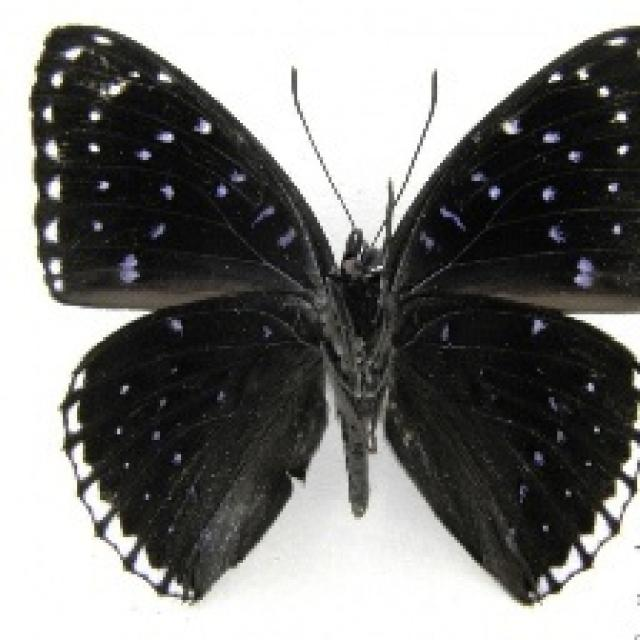butterfly: (26, 17, 637, 609)
